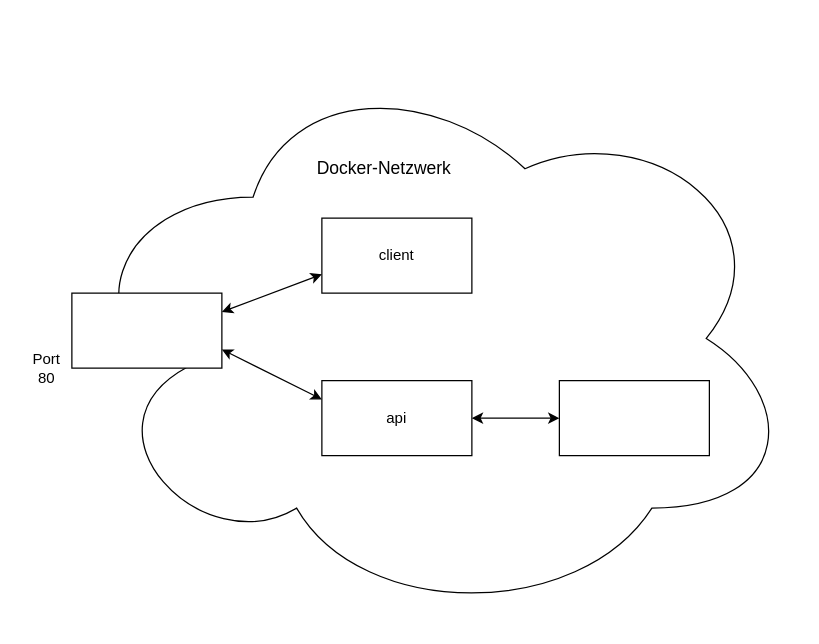
Some shapes in this 819 by 644 pixel diagram are drawn without their labels. Each missing label, with the centre of its shape:
db: point 633,417
proxy: point 146,330
